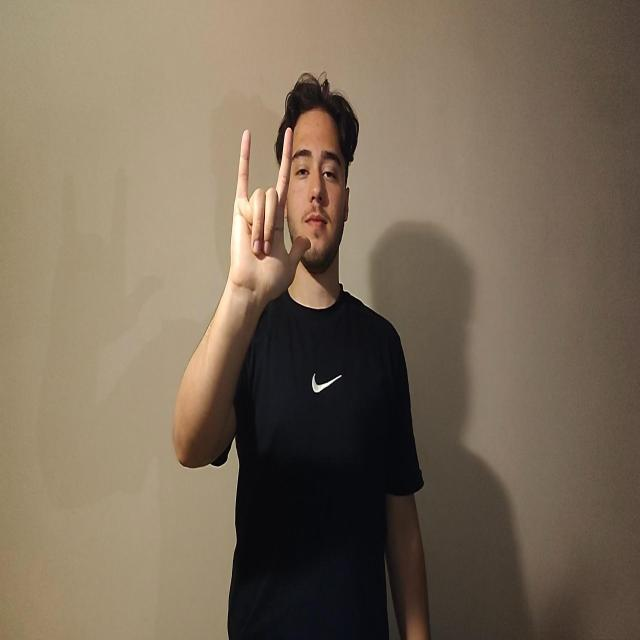iloveyou: (228, 125, 311, 309)
